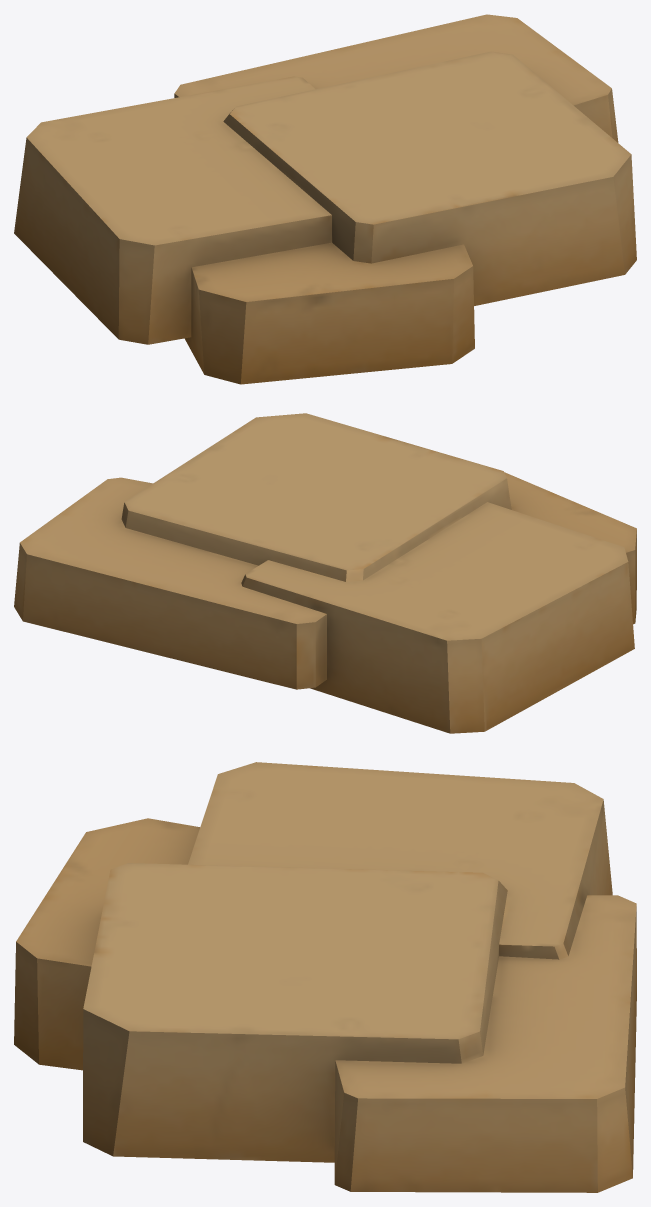
File: rocksmall_2.fbx
3 renders of one model, top to bottom at view 1: azimuth 30°, elevation 25°; view 2: azimuth 150°, elevation 25°; view 3: azimuth 270°, elevation 25°, orthographic. The views are drawn at different scales.
Visible parts, largest first — view 1: SM_rockpa_low; view 2: SM_rockpa_low; view 3: SM_rockpa_low.
Boxes of the visible parts, x1=… form: SM_rockpa_low: x1=14, y1=14, x2=636, y2=384; SM_rockpa_low: x1=14, y1=413, x2=636, y2=733; SM_rockpa_low: x1=14, y1=762, x2=636, y2=1192.
Size of the model in its own units: 388 by 82.22 by 308.
1 material, 1 textured.
